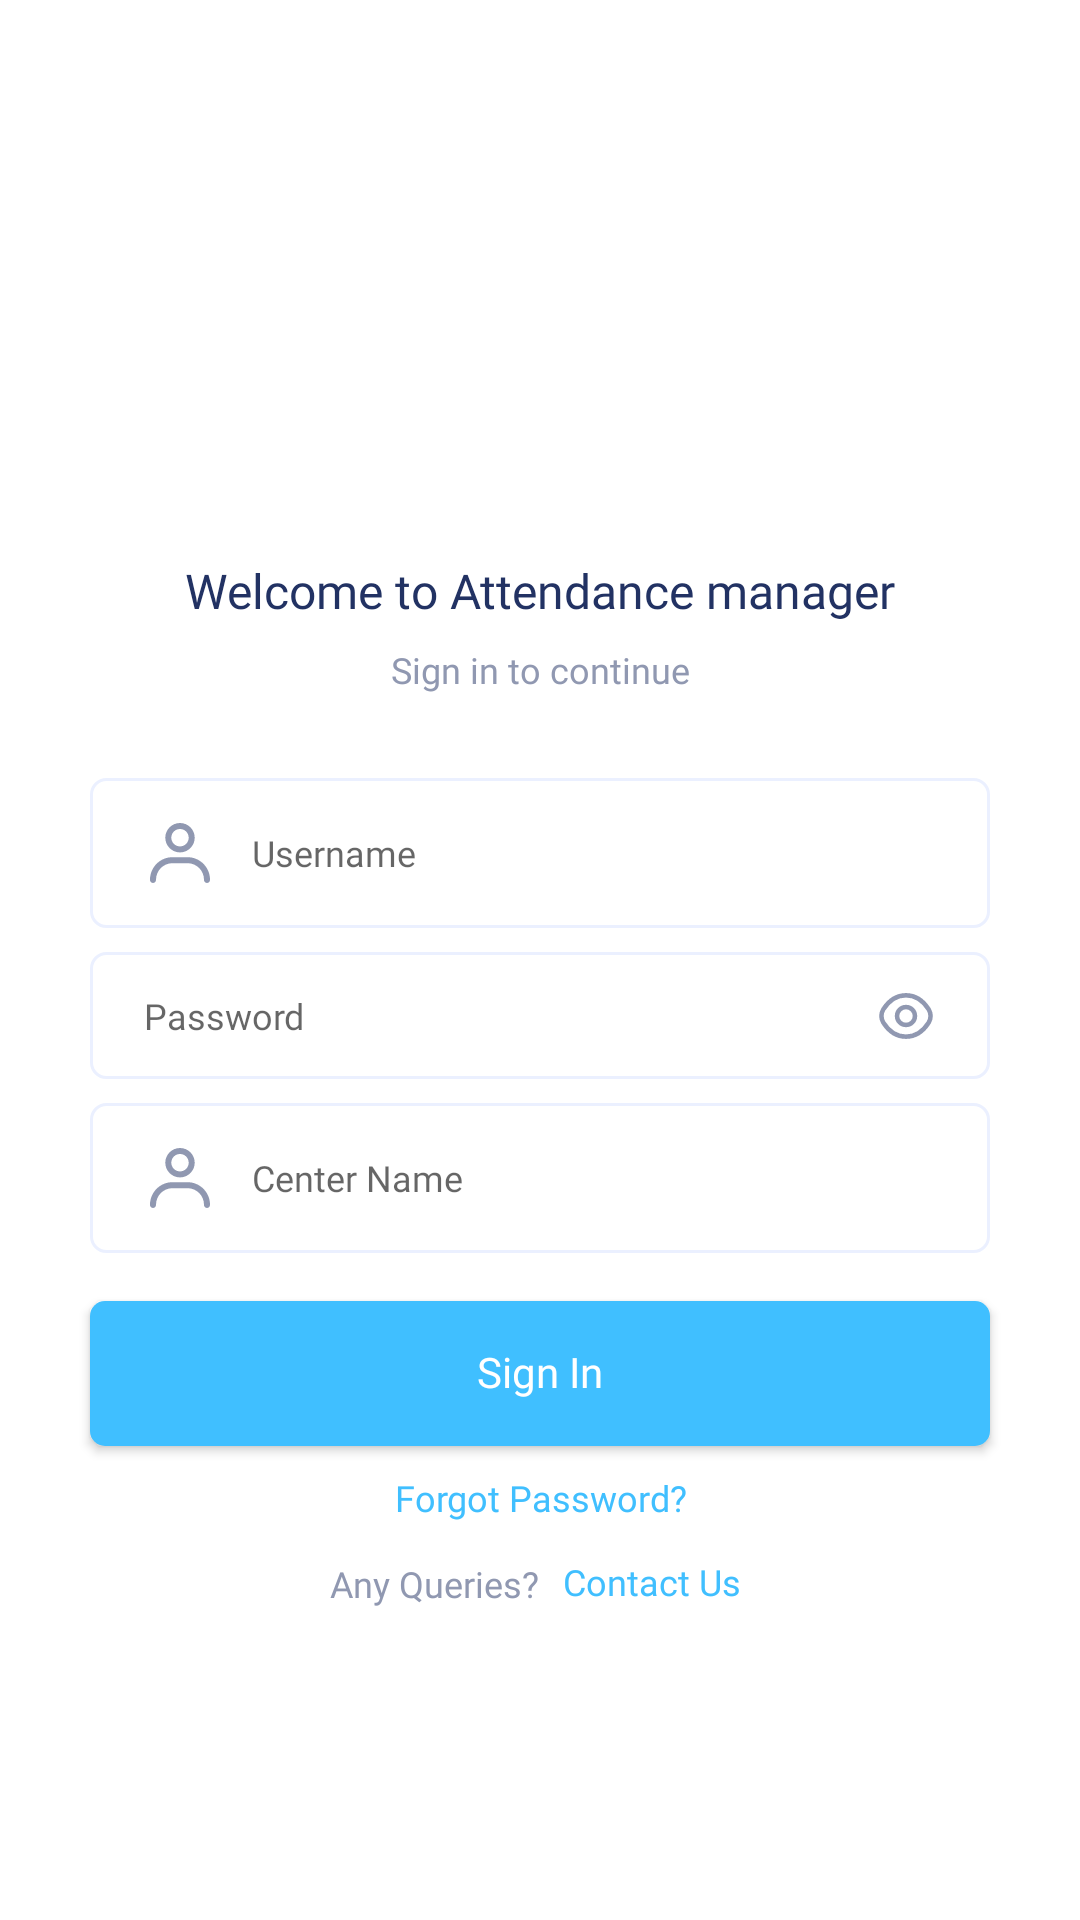

Locate icon controls on the screen. Image size 1080px×1920px, boxes as (x1,y1,x2,y2).
eye: (879,993,933,1039)
